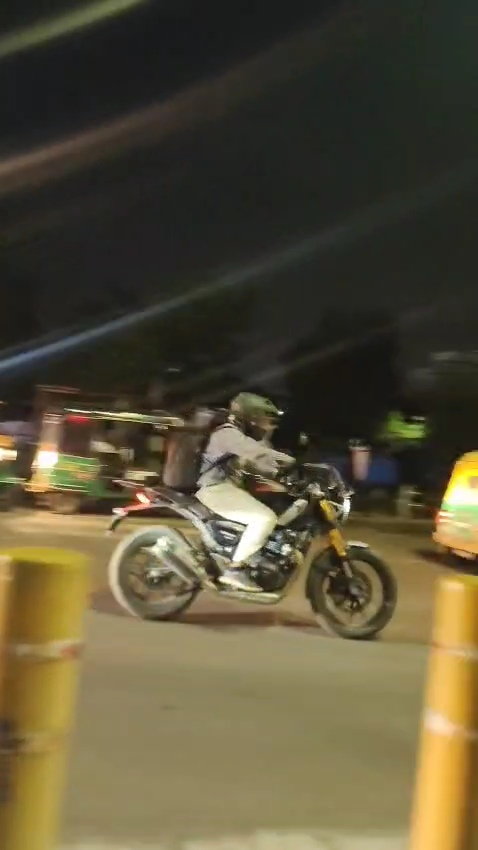BikeWithRider: (91, 382, 408, 646)
Helmet: (218, 385, 292, 439)
